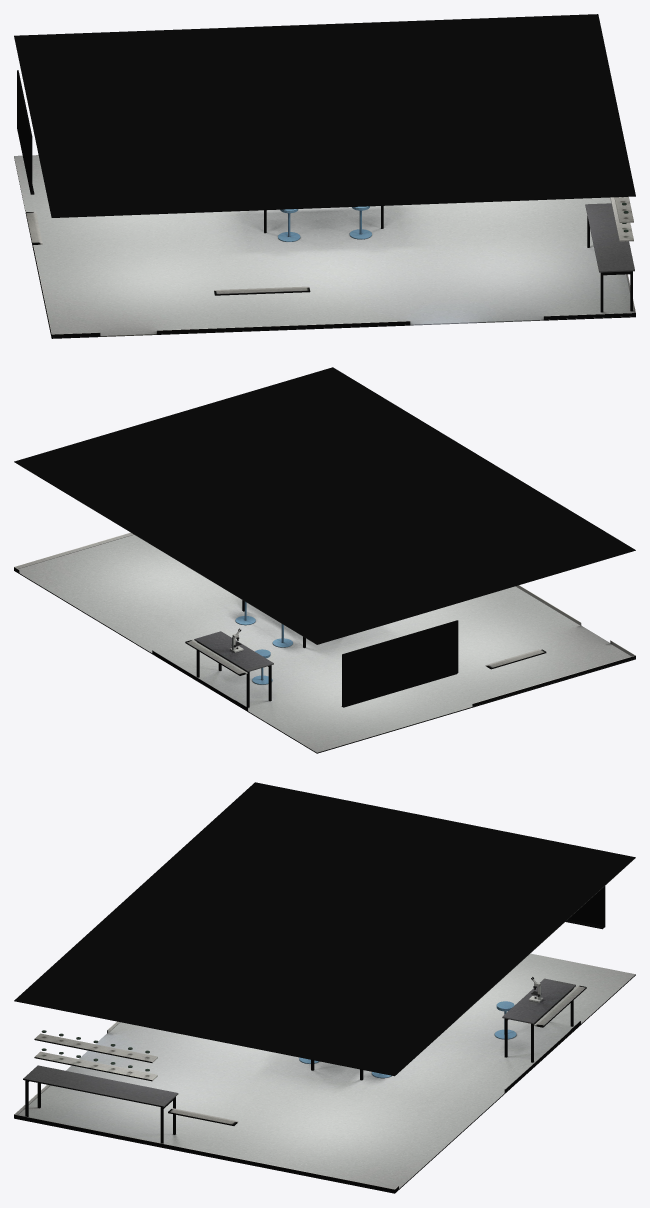
File: labor.glb
The picture shows the model from 3 angles, top to bottom: view 1: azimuth 30°, elevation 25°; view 2: azimuth 150°, elevation 25°; view 3: azimuth 270°, elevation 25°; orthographic projection. The views are drawn at different scales.
Parts seen in each view (by area): view 1: Licht_labor; view 2: Licht_labor; view 3: Licht_labor.
Boxes of the visible parts, bbox=[...] form: Licht_labor: bbox=[14, 14, 635, 338]; Licht_labor: bbox=[14, 367, 635, 753]; Licht_labor: bbox=[14, 782, 635, 1193].
Size of the model in its own units: 13.88 by 2.6 by 12.43.
Materials: 1 (1 with a texture image).
